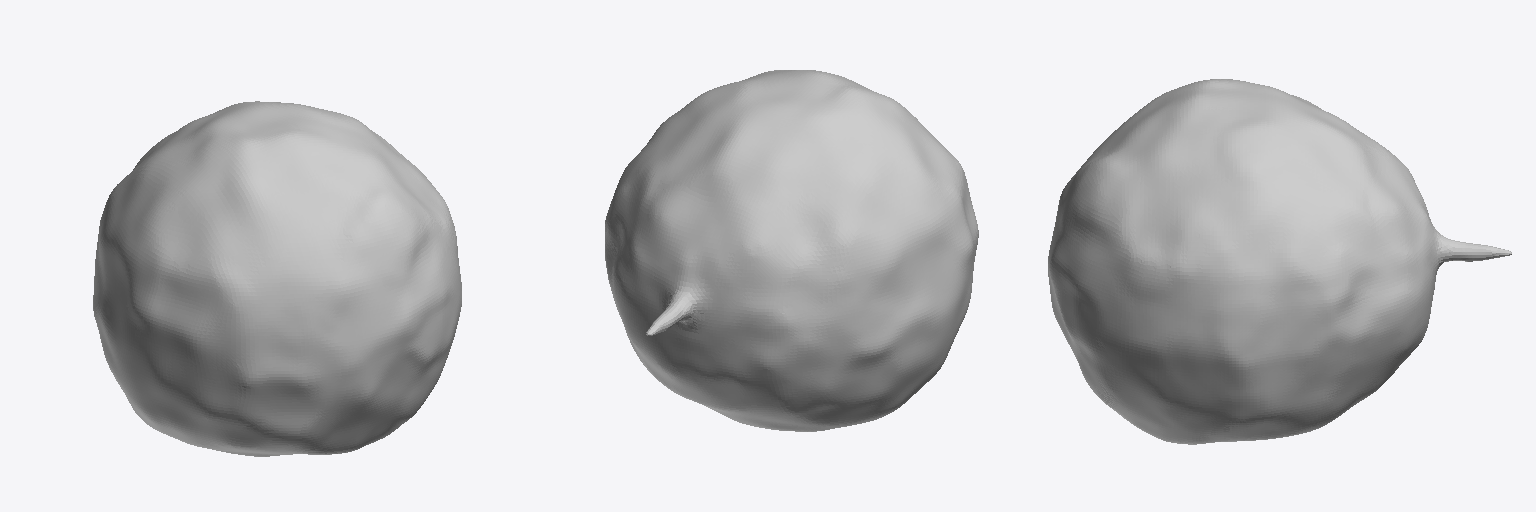
Rendered from Snowman_Top.OBJ.
3 views of the same model, side by side, from view 1: azimuth 30°, elevation 25°; view 2: azimuth 150°, elevation 25°; view 3: azimuth 270°, elevation 25° (orthographic).
Visible parts, largest first — view 1: Group15939; view 2: Group15939; view 3: Group15939.
Boxes of the visible parts, box(x1,y1,x2,y2) form: Group15939: box(93, 101, 461, 456); Group15939: box(605, 70, 978, 431); Group15939: box(1048, 79, 1511, 444).
Bounding box in the file's own units: 0.7844 × 0.7179 × 0.9805.